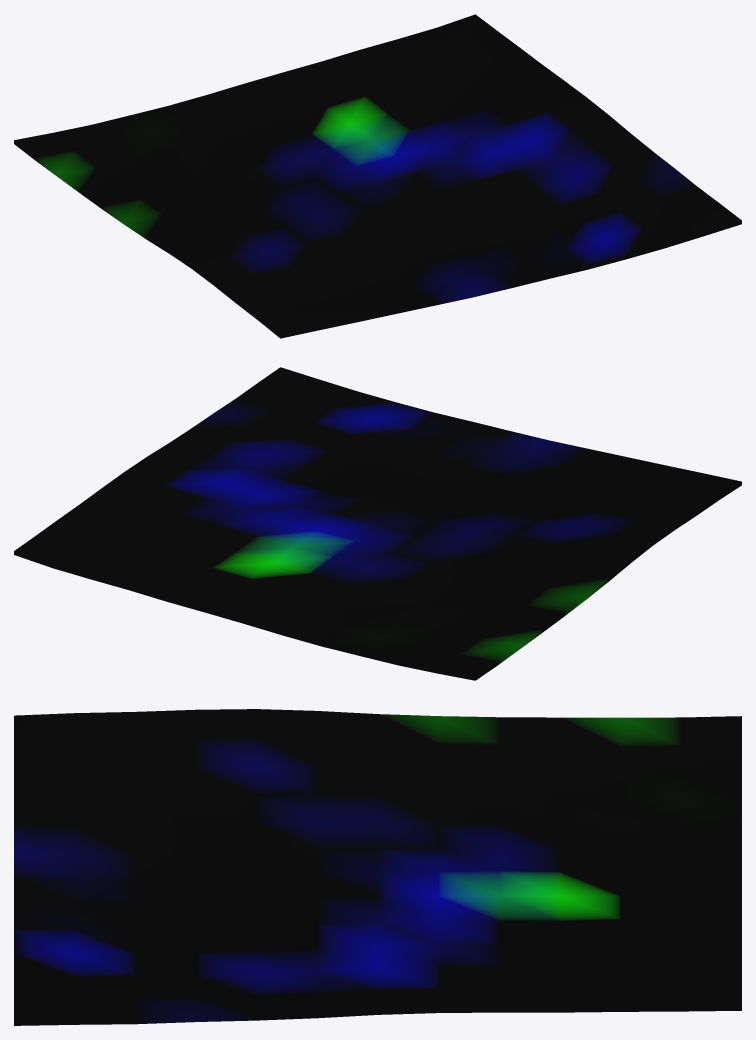
File: coast_1_4.glb
3 views of the same model, one above another, from view 1: azimuth 30°, elevation 25°; view 2: azimuth 150°, elevation 25°; view 3: azimuth 270°, elevation 25° (orthographic). The views are drawn at different scales.
Visible parts, largest first — view 1: terrain; view 2: terrain; view 3: terrain.
Part boxes in pixels (x1=…): terrain: x1=14, y1=14, x2=741, y2=338; terrain: x1=14, y1=367, x2=741, y2=680; terrain: x1=14, y1=709, x2=741, y2=1025.
Bounding box in the file's own units: 192 × 9.02 × 192.
